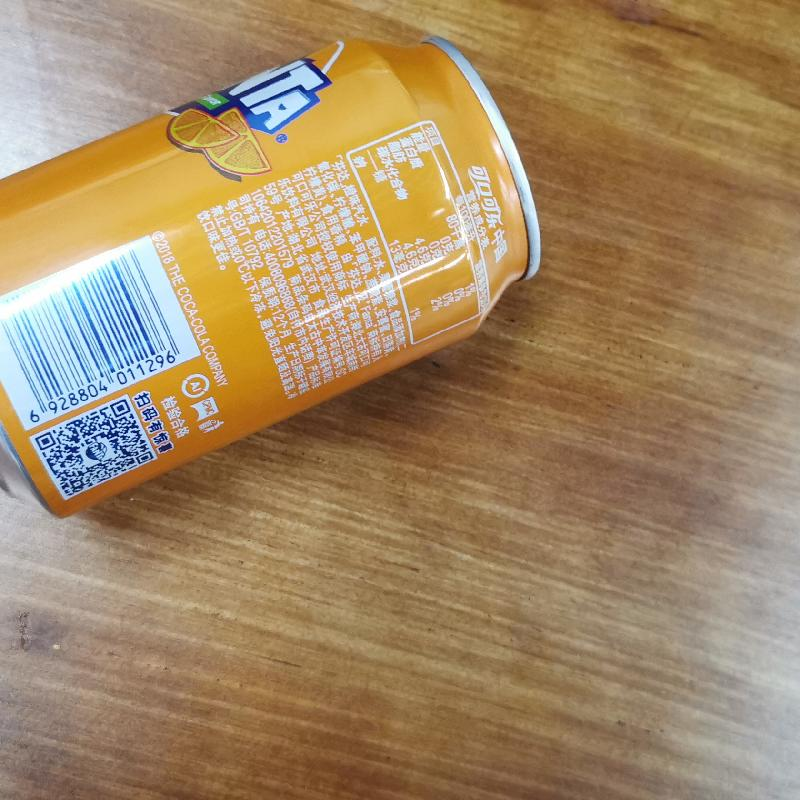cans: (0, 30, 580, 514)
